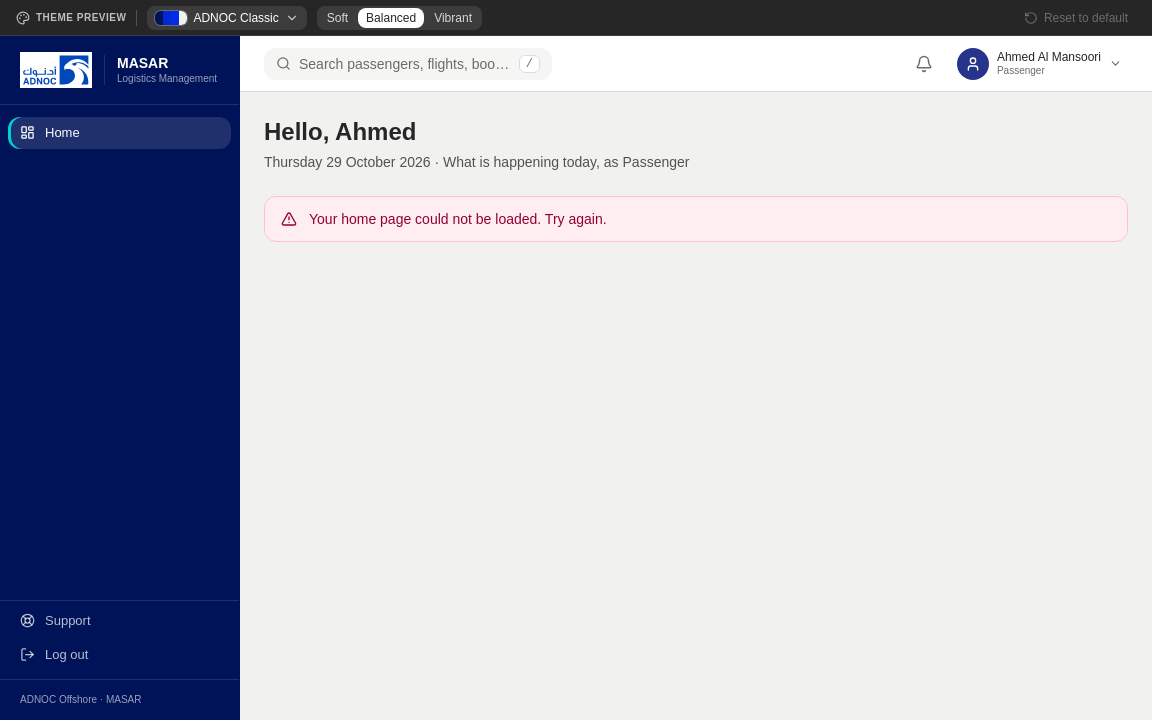
Test: PROMPT-4.2 web shell › PROMPT-2.6 staff have no Change password
Click the button with aria-label "Your account menu" at (1039, 64), box x1=951 y1=44 x2=1128 y2=82
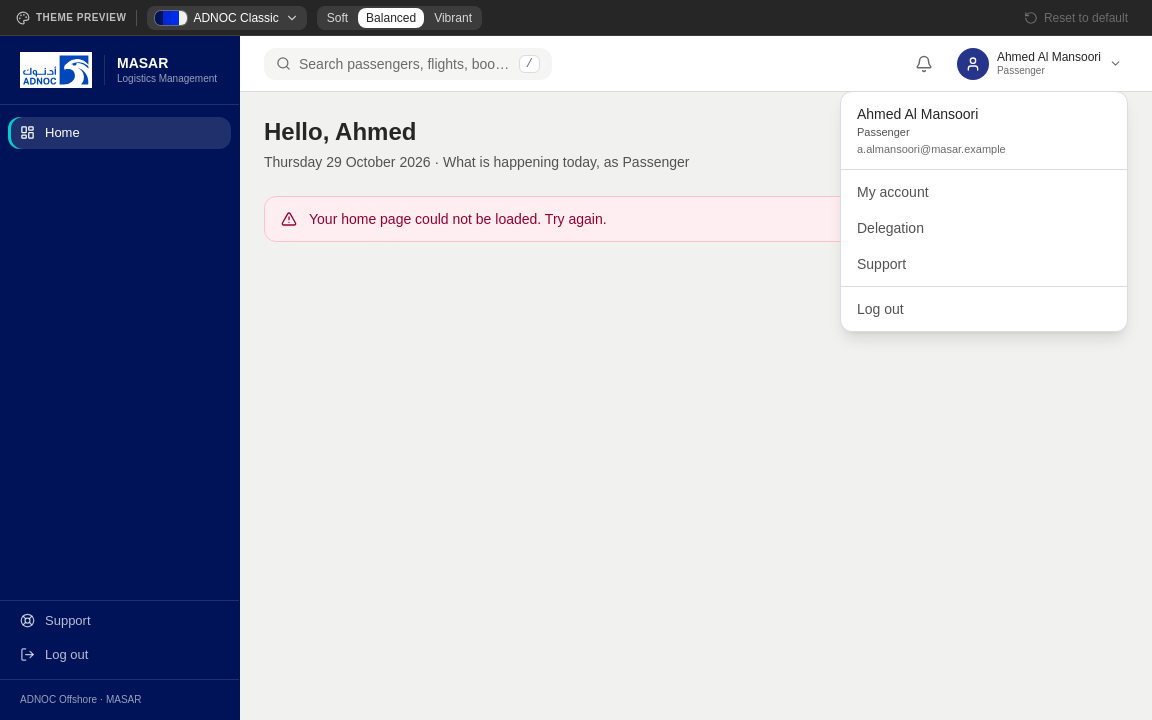
expect the menu item "My account" is shown: met, box x1=857 y1=184 x2=929 y2=200
